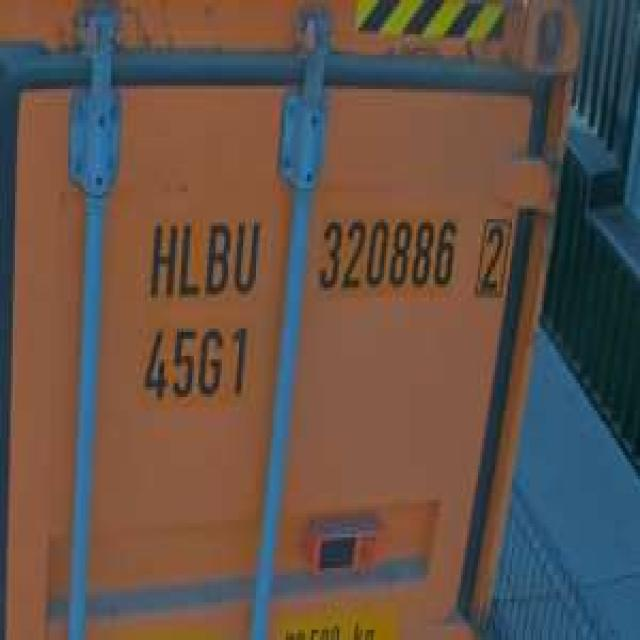dv: (473, 210, 515, 305)
owner: (143, 213, 267, 305)
serial: (313, 210, 457, 306)
size: (136, 317, 261, 413)
